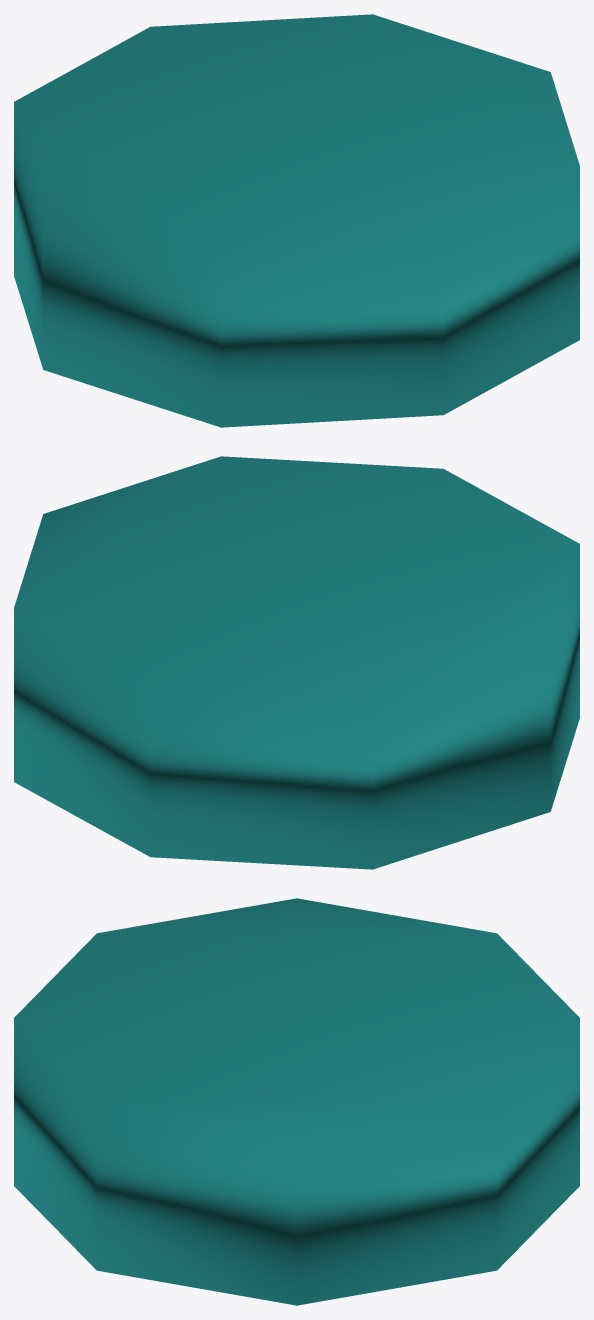
File: hockey_puck_collider.fbx
3 renders of one model, top to bottom at view 1: azimuth 30°, elevation 25°; view 2: azimuth 150°, elevation 25°; view 3: azimuth 270°, elevation 25°, orthographic. The views are drawn at different scales.
Parts seen in each view (by area): view 1: hockey_puck_collider; view 2: hockey_puck_collider; view 3: hockey_puck_collider.
Part boxes in pixels (x1,y1,x2,y2): hockey_puck_collider: (14, 14, 579, 427); hockey_puck_collider: (14, 456, 579, 869); hockey_puck_collider: (14, 898, 579, 1305).
Bounding box in the file's own units: 7.75 × 2.54 × 7.75.
